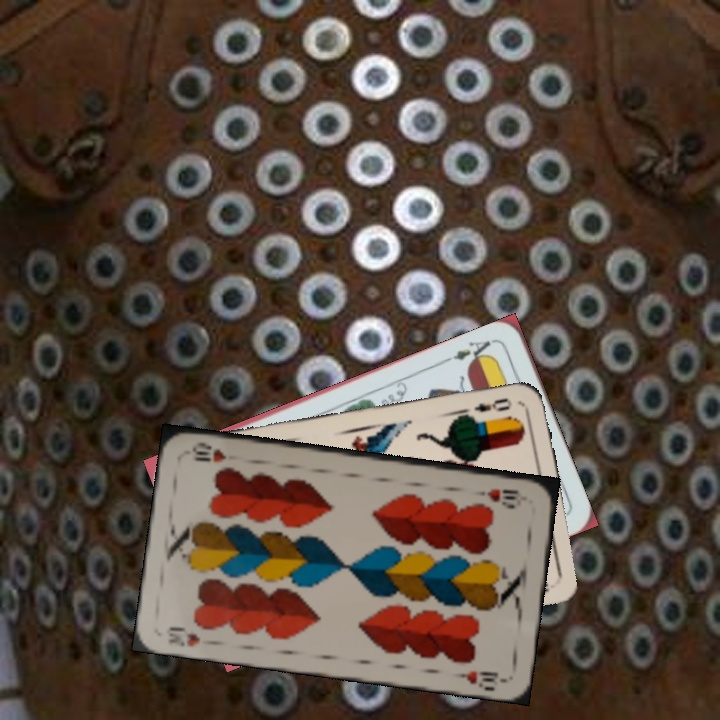EA: (441, 335, 498, 368)
EO: (470, 394, 514, 415)
H10: (162, 622, 203, 649), (471, 484, 521, 505)
